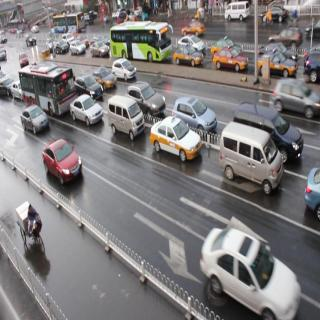BigCar: (17, 61, 77, 117), (114, 17, 174, 65), (51, 12, 84, 34)
Car: (199, 226, 303, 320), (219, 120, 284, 196), (149, 111, 204, 166), (40, 137, 84, 187), (271, 77, 320, 121), (173, 91, 217, 136), (108, 92, 143, 146), (128, 78, 166, 120), (68, 88, 104, 130), (255, 49, 298, 81), (210, 46, 251, 74), (20, 102, 49, 138), (267, 25, 303, 51), (73, 73, 102, 102), (173, 45, 204, 69), (93, 65, 117, 92), (113, 56, 136, 84), (223, 1, 250, 24), (180, 18, 208, 36), (90, 39, 110, 60), (54, 38, 70, 58), (70, 38, 86, 57)
